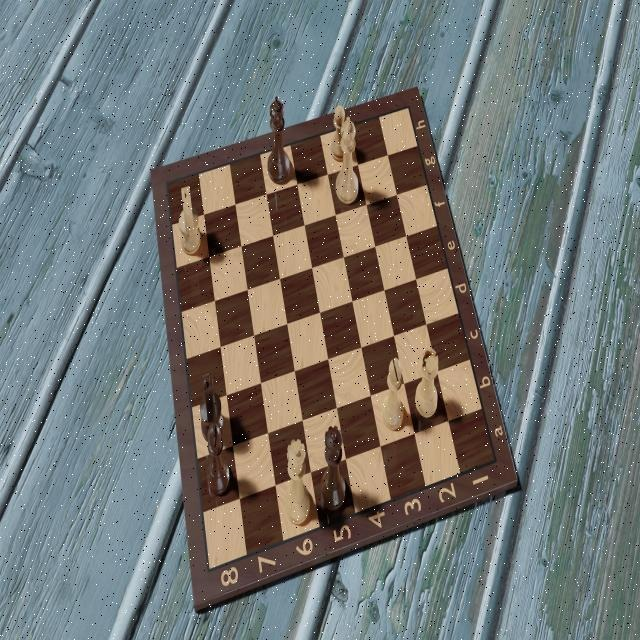black-bishop: (206, 421, 230, 499)
black-king: (265, 94, 291, 185)
black-knight: (198, 370, 226, 446)
black-queen: (319, 425, 347, 515)
white-bishop: (380, 356, 407, 434)
white-king: (335, 115, 361, 209)
white-knight: (176, 184, 203, 260)
white-pawn: (331, 104, 349, 162)
white-queen: (283, 437, 313, 528)
white-rook: (413, 346, 440, 422)
